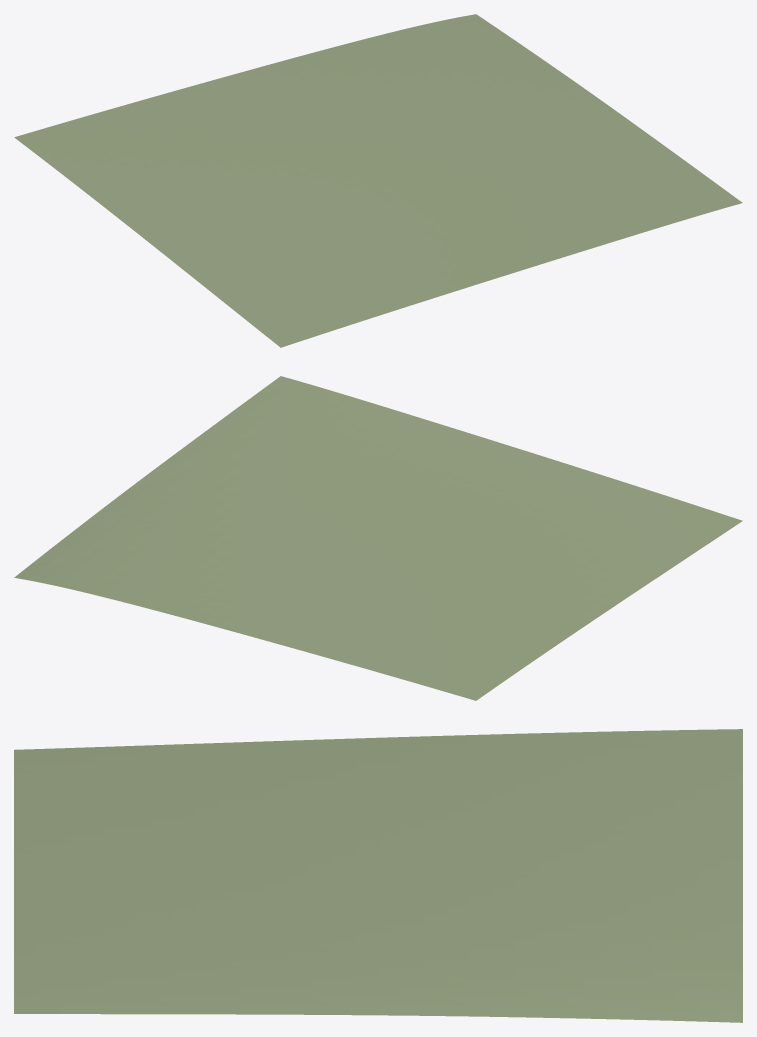
Rendered from desert-11-19.glb.
The picture shows the model from 3 angles, top to bottom: view 1: azimuth 30°, elevation 25°; view 2: azimuth 150°, elevation 25°; view 3: azimuth 270°, elevation 25°; orthographic projection. The views are drawn at different scales.
Parts seen in each view (by area): view 1: desert-11-19; view 2: desert-11-19; view 3: desert-11-19.
Boxes of the visible parts, box(x1,y1,x2,y2) form: desert-11-19: box(14, 14, 742, 347); desert-11-19: box(14, 376, 742, 700); desert-11-19: box(14, 729, 742, 1022).
Size of the model in its own units: 512 by 33.97 by 512.
